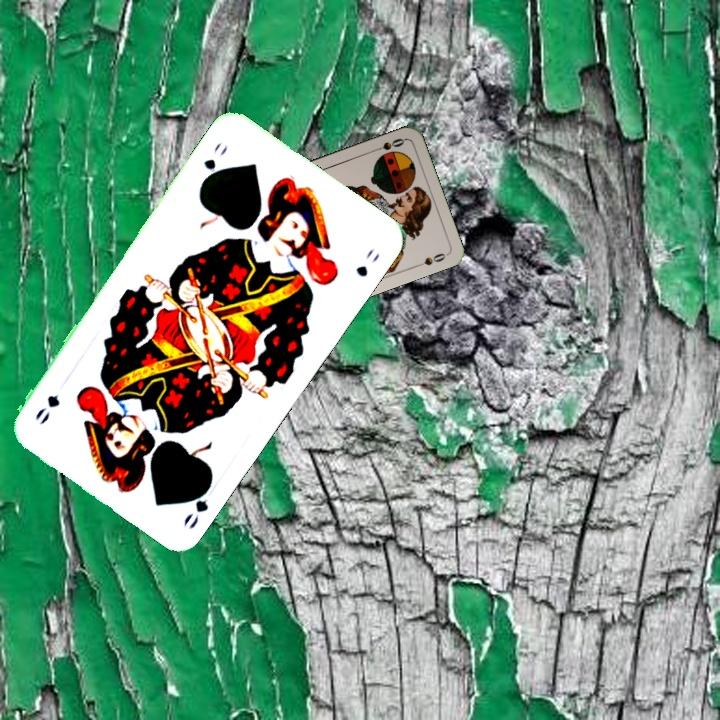GO: (179, 476, 215, 532), (197, 139, 231, 187)
SO: (368, 134, 407, 155)
